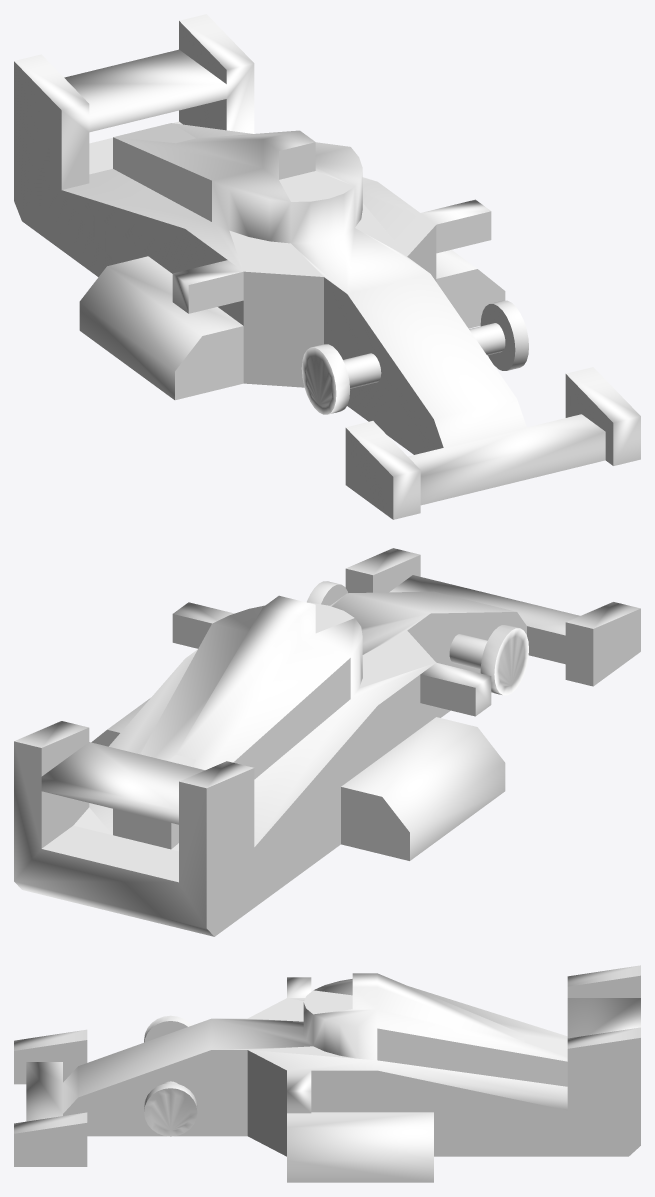
The model's file is f1-vehicle.glb.
The picture shows the model from 3 angles, top to bottom: view 1: azimuth 30°, elevation 25°; view 2: azimuth 150°, elevation 25°; view 3: azimuth 270°, elevation 25°; orthographic projection. The views are drawn at different scales.
Parts seen in each view (by area): view 1: f1-vehicle; view 2: f1-vehicle; view 3: f1-vehicle.
Part boxes in pixels (x1,y1,x2,y2): f1-vehicle: (14,14,640,519); f1-vehicle: (14,548,640,936); f1-vehicle: (14,965,640,1182).
Size of the model in its own units: 1.2 by 0.6325 by 2.56.
Materials: 1 (1 with a texture image).
